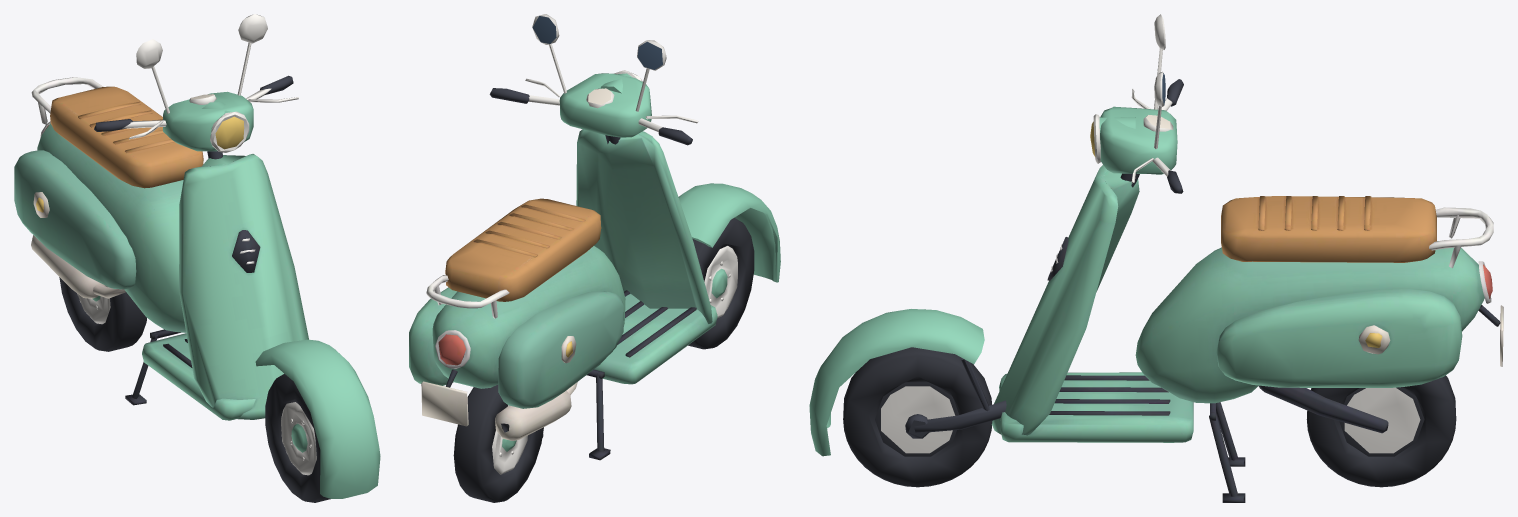
File: n_scooter.glb
3 renders of one model, left to right at view 1: azimuth 30°, elevation 25°; view 2: azimuth 150°, elevation 25°; view 3: azimuth 270°, elevation 25°, orthographic. The views are drawn at different scales.
Parts seen in each view (by area): view 1: scooter_body, scooter_steering, scooter_wheel_front, scooter_wheel_rear; view 2: scooter_body, scooter_steering, scooter_wheel_rear, scooter_wheel_front; view 3: scooter_body, scooter_steering, scooter_wheel_front, scooter_wheel_rear.
Boxes of the visible parts, x1=… form: scooter_body: x1=14, y1=77, x2=308, y2=420; scooter_steering: x1=94, y1=14, x2=380, y2=498; scooter_wheel_front: x1=265, y1=373, x2=330, y2=502; scooter_wheel_rear: x1=59, y1=277, x2=146, y2=351; scooter_body: x1=409, y1=129, x2=717, y2=460; scooter_steering: x1=489, y1=14, x2=780, y2=282; scooter_wheel_rear: x1=453, y1=384, x2=543, y2=502; scooter_wheel_front: x1=688, y1=218, x2=754, y2=349; scooter_body: x1=991, y1=165, x2=1503, y2=502; scooter_steering: x1=809, y1=14, x2=1183, y2=456; scooter_wheel_front: x1=843, y1=347, x2=992, y2=487; scooter_wheel_rear: x1=1306, y1=375, x2=1456, y2=487.
Bounding box in the file's own units: 0.7328 × 1.37 × 1.98.
Materials: 2 (1 with a texture image).
